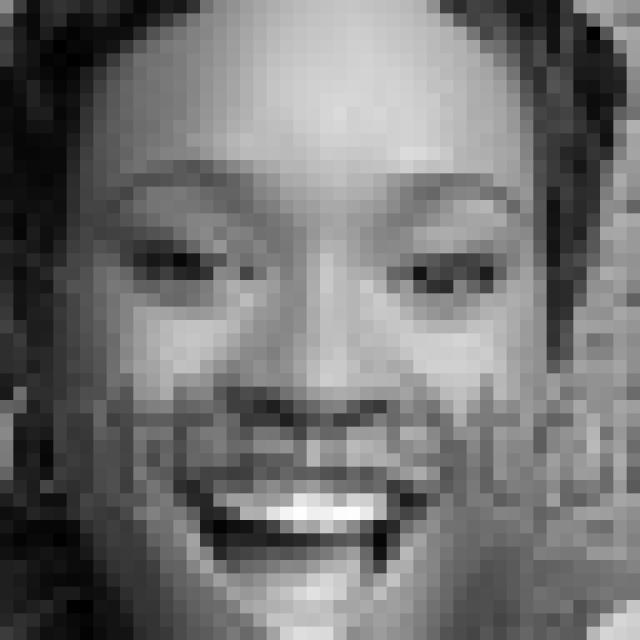happy: (98, 149, 540, 640)
